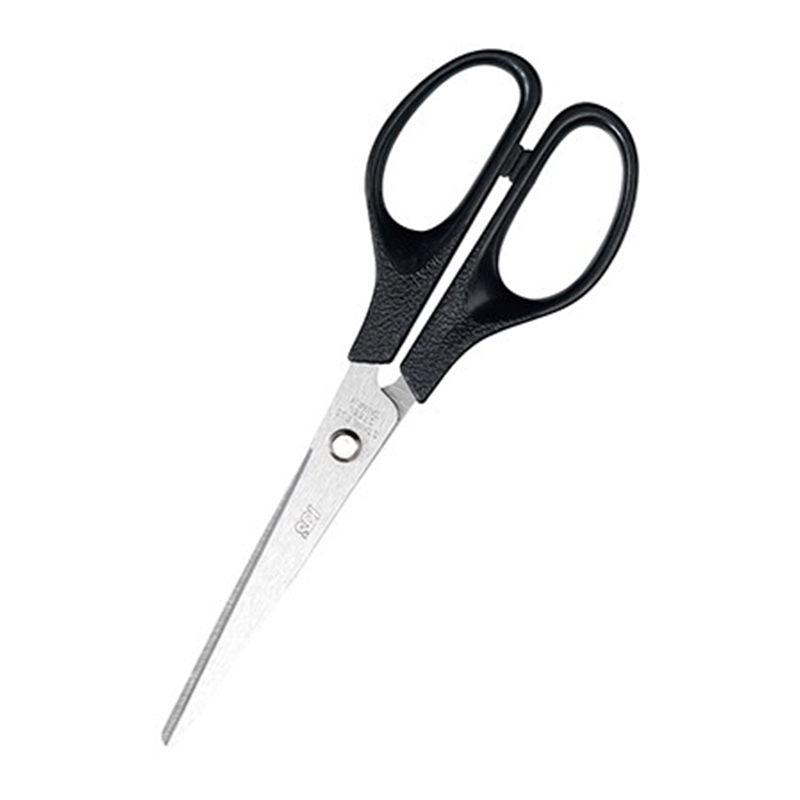scissor: (146, 31, 646, 763)
